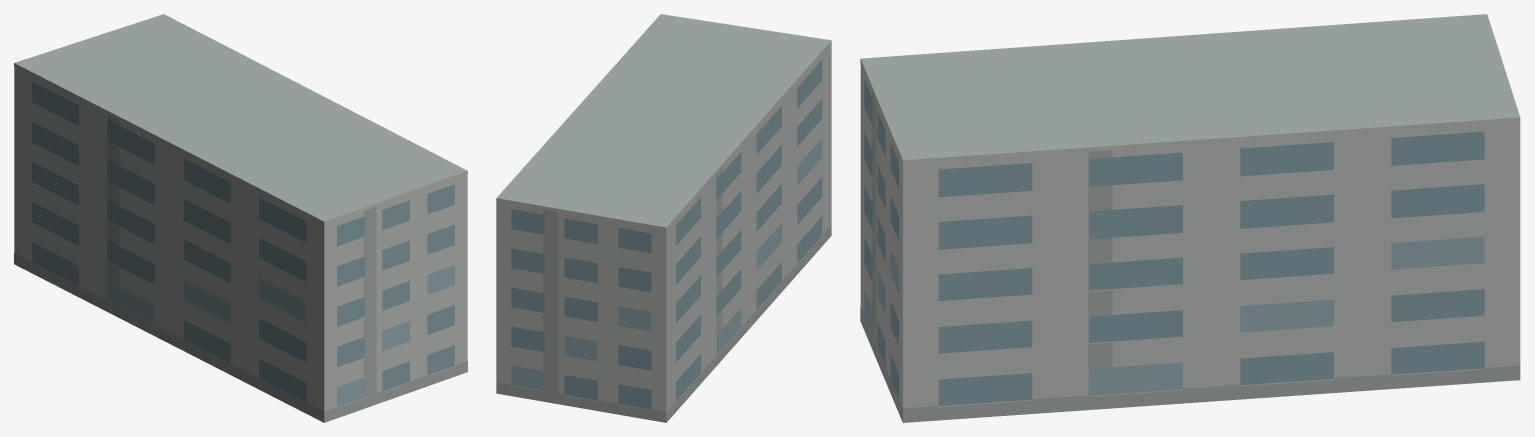
The model's file is survey-upis-32702626.glb.
3 views of the same model, side by side, from view 1: azimuth 30°, elevation 25°; view 2: azimuth 150°, elevation 25°; view 3: azimuth 270°, elevation 25° (orthographic). The views are drawn at different scales.
Visible parts, largest first — view 1: survey-upis-32702626.tmp; view 2: survey-upis-32702626.tmp; view 3: survey-upis-32702626.tmp.
Part boxes in pixels (left/top/right/bottom): survey-upis-32702626.tmp: left=14, top=14, right=467, bottom=422; survey-upis-32702626.tmp: left=496, top=14, right=831, bottom=422; survey-upis-32702626.tmp: left=860, top=14, right=1520, bottom=422.
Size of the model in its own units: 16.97 by 14.2 by 32.35.
